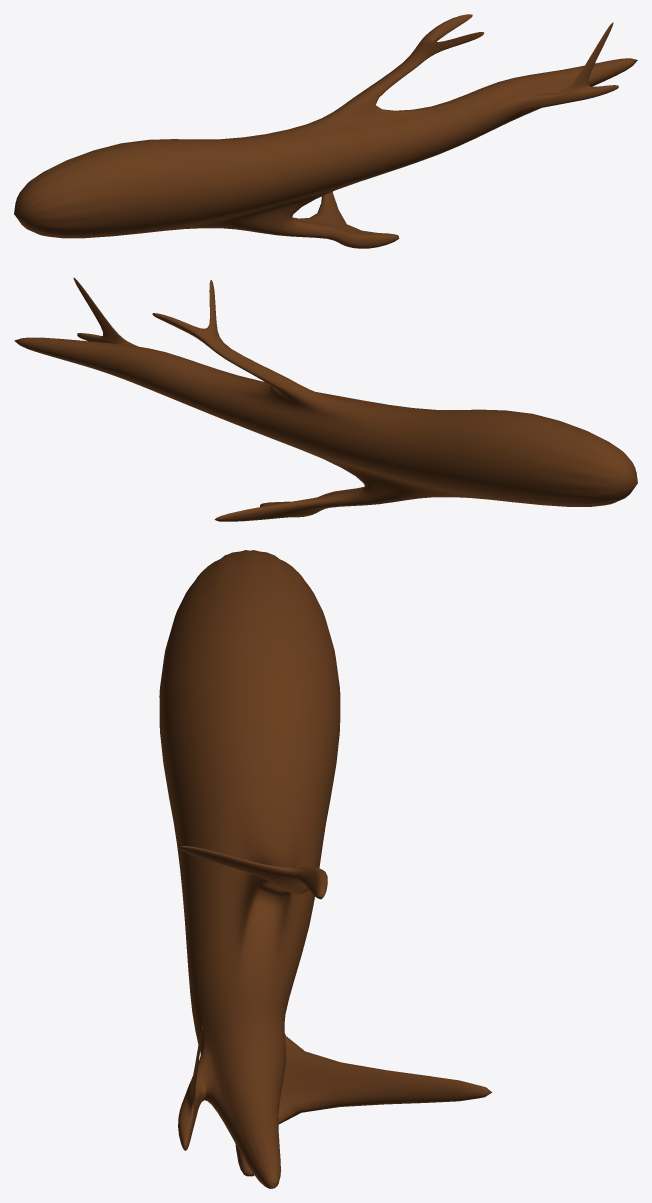
The model's file is Strandholz.fbx.
3 views of the same model, one above another, from view 1: azimuth 30°, elevation 25°; view 2: azimuth 150°, elevation 25°; view 3: azimuth 270°, elevation 25° (orthographic). The views are drawn at different scales.
Visible parts, largest first — view 1: Strandholz; view 2: Strandholz; view 3: Strandholz.
Part boxes in pixels (<box>): Strandholz: <box>14,14,637,248</box>; Strandholz: <box>14,277,637,521</box>; Strandholz: <box>159,550,491,1188</box>.
Bounding box in the file's own units: 998 × 310 × 233.
